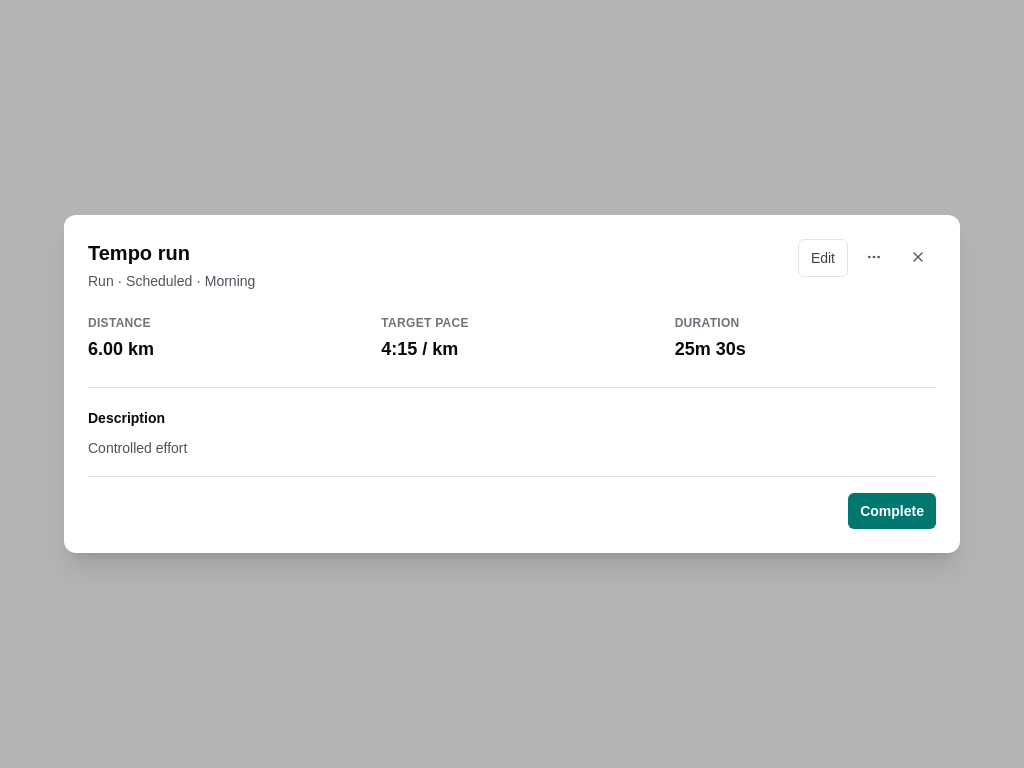
Test: dismisses more actions when interacting outside the menu
Click the button named "More actions": (874, 257) [856,239,892,275]
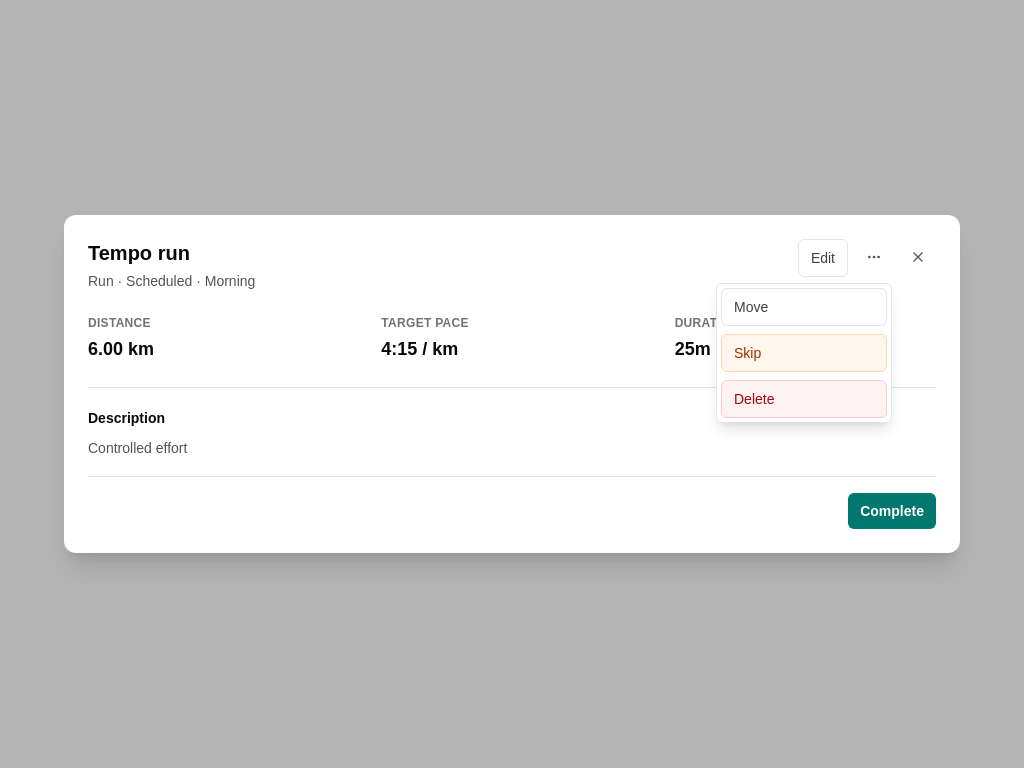
Press the mouse on the menu item "Skip": (804, 353) [721,334,887,372]
Expected: the menu is shown, [716,283,892,423]
Press the mouse on the text "Target pace": (425, 323) [381,316,469,330]
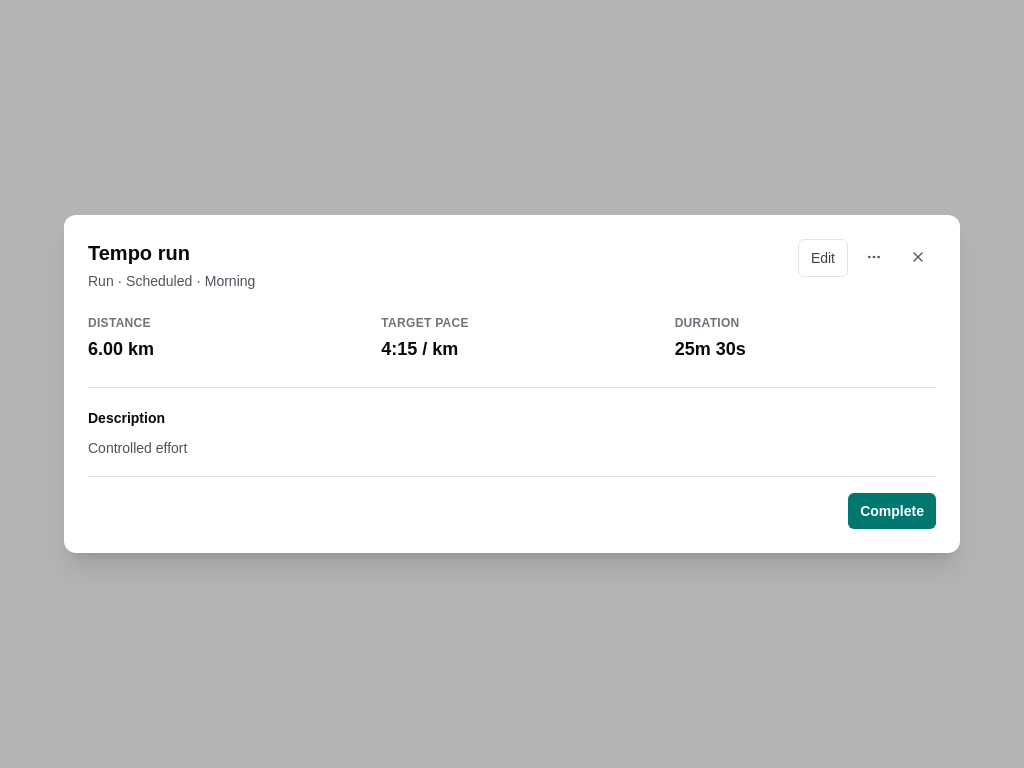
Expected: the menu is gone
